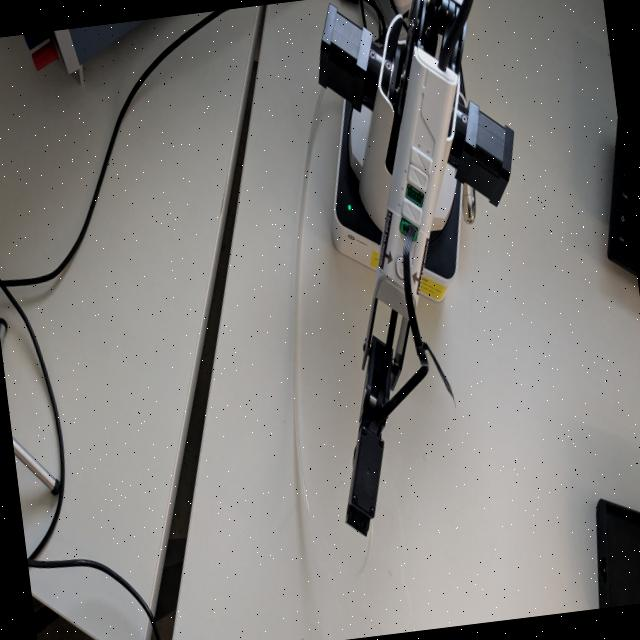Robot-end-effector-HF8z: (322, 414, 407, 548)
